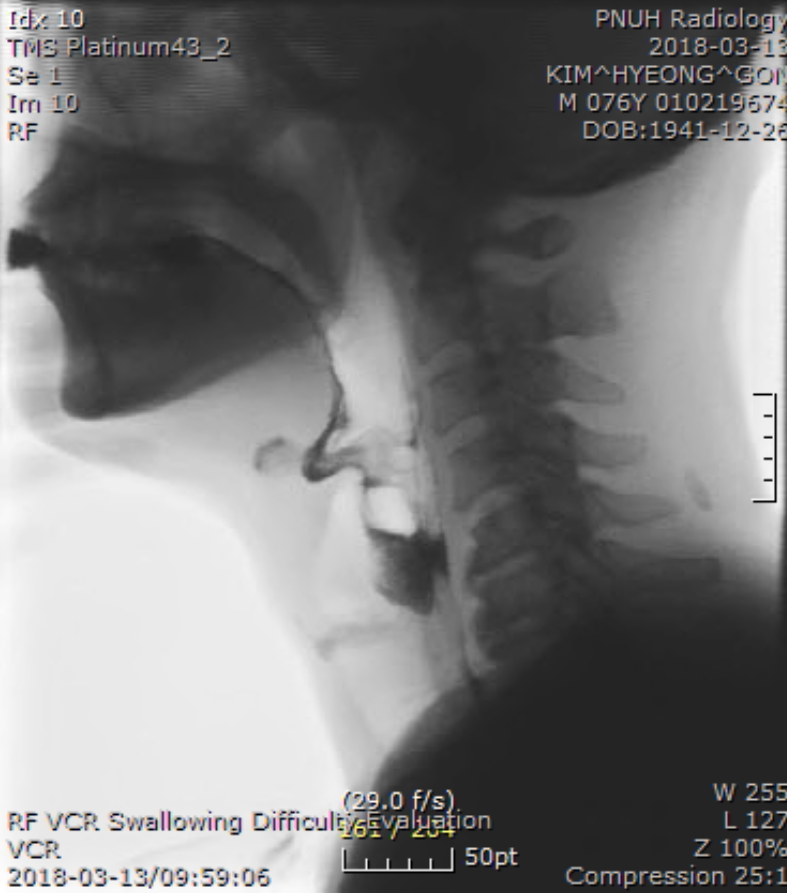dros: (400, 523, 484, 626)
food: (287, 374, 451, 645)
uros: (279, 405, 366, 500)
